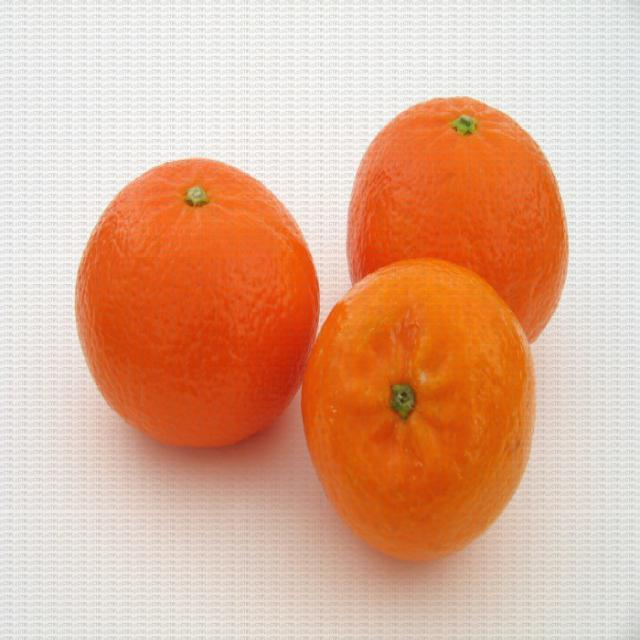Orange: (74, 157, 320, 450), (299, 258, 531, 566), (343, 99, 569, 345)
